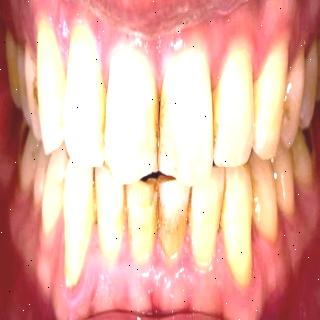Gum Swelling: (51, 216, 144, 320), (46, 11, 131, 92), (144, 227, 203, 313), (131, 27, 188, 100), (246, 218, 286, 320), (238, 22, 305, 80), (203, 235, 246, 320), (188, 23, 238, 90)
cavities: (296, 116, 320, 183)
plaque: (243, 71, 264, 141), (56, 69, 72, 135), (87, 167, 101, 234)
stains: (145, 89, 177, 170), (160, 170, 188, 259), (125, 172, 155, 254), (24, 40, 44, 127), (101, 177, 123, 255), (205, 84, 226, 154), (276, 79, 298, 145), (94, 90, 114, 162)
